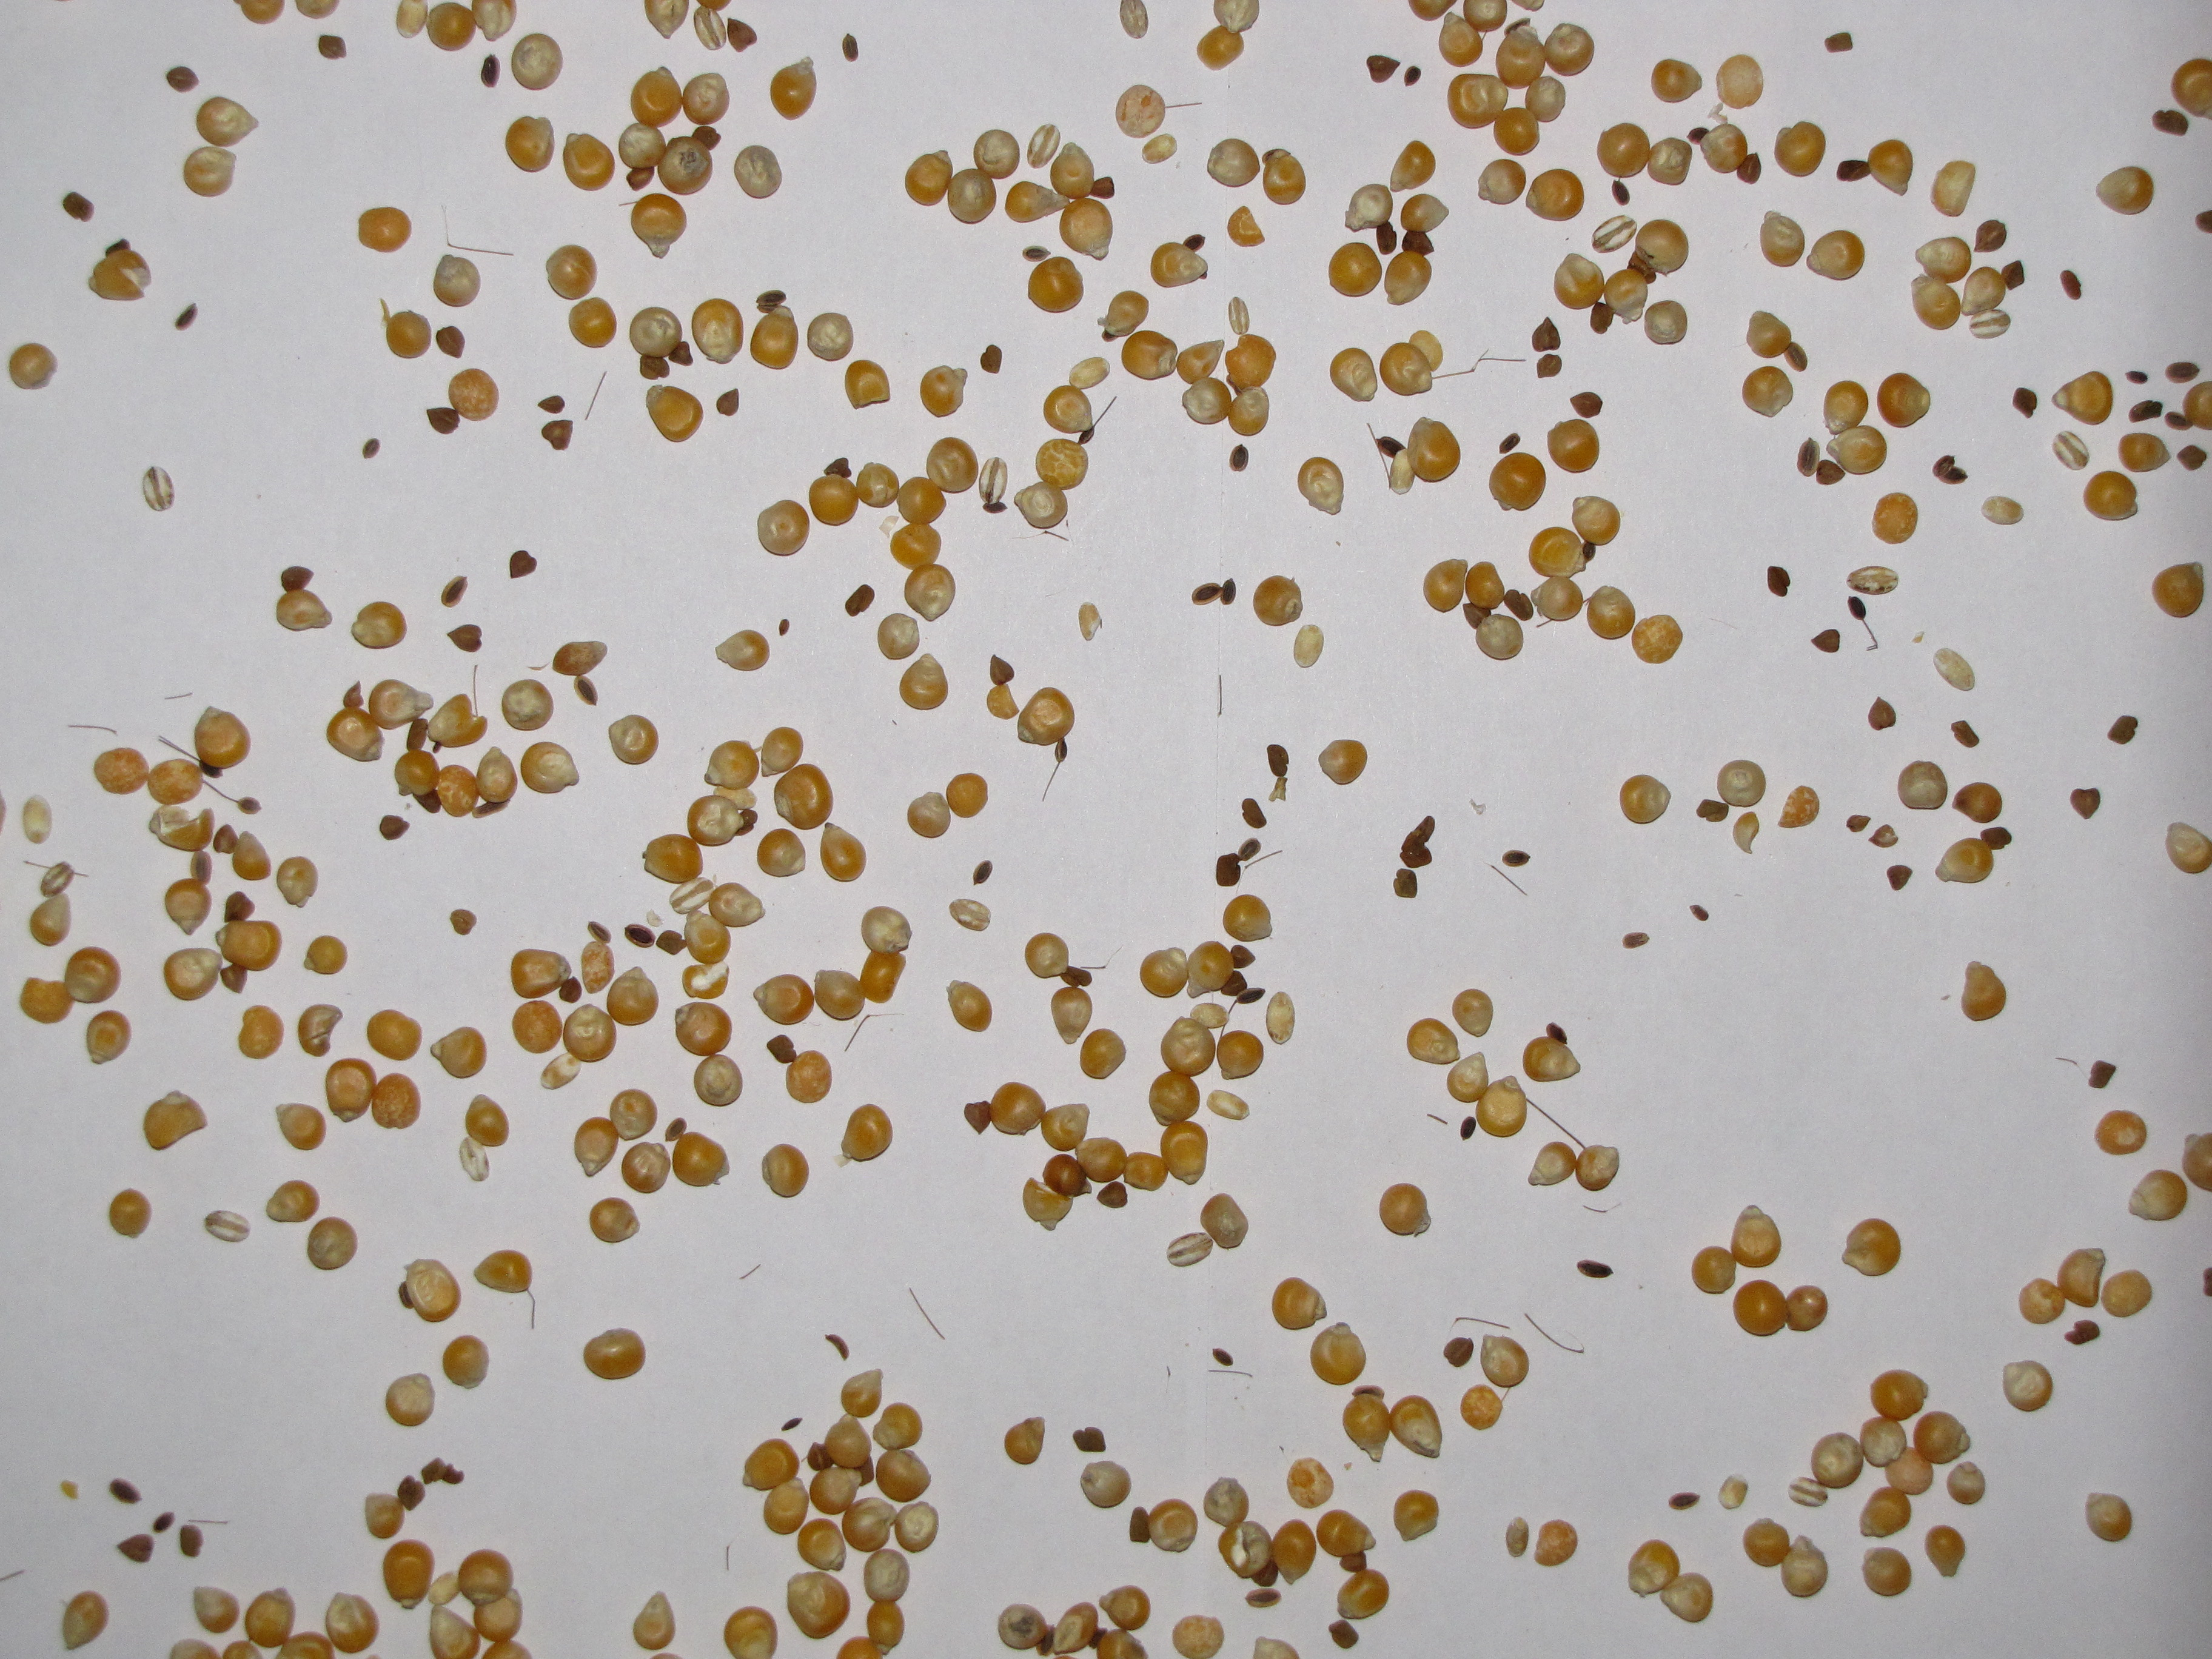mais: (1115, 84, 1202, 139), (1747, 310, 1808, 373), (212, 824, 272, 882), (195, 96, 260, 148), (1150, 234, 1209, 288), (380, 300, 432, 359), (770, 56, 817, 120), (430, 1026, 488, 1079), (1806, 230, 1865, 281), (1271, 1277, 1327, 1330), (545, 244, 597, 300), (1379, 1183, 1432, 1237), (2083, 471, 2139, 521), (1775, 122, 1825, 178), (1200, 1192, 1249, 1249), (899, 653, 948, 711), (350, 601, 408, 650), (1298, 457, 1345, 516), (1961, 960, 2006, 1021), (1742, 366, 1794, 418), (502, 680, 554, 732), (1207, 138, 1261, 188), (385, 1373, 435, 1427), (307, 1216, 357, 1270), (1329, 347, 1378, 403), (761, 1143, 810, 1199), (1480, 1333, 1529, 1389), (1716, 54, 1764, 110), (820, 823, 866, 882), (1097, 291, 1150, 342), (1630, 613, 1683, 664), (920, 364, 968, 418), (733, 145, 782, 199), (1261, 148, 1306, 206), (756, 828, 806, 878), (1620, 774, 1670, 824), (608, 714, 658, 765), (1862, 1547, 1912, 1598), (1252, 575, 1303, 626), (1897, 760, 1947, 810), (1080, 1460, 1132, 1509), (568, 296, 617, 349), (1407, 1018, 1461, 1065), (1759, 211, 1804, 267), (1223, 894, 1273, 943), (1871, 493, 1919, 544), (946, 979, 993, 1032), (434, 254, 481, 307), (1390, 139, 1435, 193), (239, 1006, 284, 1060), (1080, 1028, 1127, 1079), (275, 1103, 326, 1150), (298, 1004, 343, 1056), (589, 1197, 641, 1243), (1393, 1490, 1439, 1542), (359, 207, 411, 253), (714, 629, 770, 671), (265, 1180, 320, 1222), (986, 653, 1021, 720), (1318, 739, 1367, 786), (1477, 159, 1526, 206), (806, 312, 853, 361), (1717, 760, 1766, 807), (845, 359, 890, 410), (275, 856, 319, 908), (1651, 59, 1702, 103), (1952, 782, 2003, 824), (2118, 432, 2170, 472), (1451, 988, 1493, 1037), (1644, 300, 1688, 345), (878, 613, 920, 660), (1005, 1417, 1045, 1466), (1399, 816, 1435, 868), (946, 772, 988, 817), (909, 1288, 944, 1340), (303, 936, 348, 976), (979, 457, 1008, 514), (1266, 992, 1296, 1046), (1228, 206, 1264, 247), (1205, 1089, 1251, 1121), (949, 899, 991, 931), (1266, 744, 1289, 802), (1294, 624, 1324, 667), (1191, 579, 1237, 606), (421, 1457, 465, 1485), (1141, 132, 1177, 164), (1973, 220, 2006, 253), (726, 17, 758, 52), (1733, 812, 1759, 854), (1491, 866, 1527, 896), (1366, 54, 1400, 84), (1933, 455, 1968, 484), (1531, 317, 1561, 352), (585, 371, 606, 420), (2069, 788, 2101, 819), (542, 420, 573, 451), (845, 584, 874, 617), (1867, 697, 1897, 730), (435, 326, 465, 359), (448, 624, 482, 652), (2107, 714, 2139, 744), (63, 192, 94, 221), (1444, 1337, 1474, 1368), (1797, 437, 1820, 477), (1329, 1619, 1359, 1649), (441, 577, 469, 608), (165, 66, 199, 92), (1096, 1182, 1129, 1208), (1569, 392, 1602, 418), (1951, 720, 1980, 748), (2088, 1060, 2116, 1089), (2012, 387, 2038, 418), (1073, 1427, 1106, 1452), (2128, 401, 2163, 423), (509, 551, 536, 579), (2177, 444, 2207, 471), (1817, 458, 1846, 484), (1242, 798, 1266, 829), (1696, 800, 1730, 823), (1244, 850, 1282, 870), (449, 910, 477, 936), (2165, 362, 2200, 383), (1811, 629, 1841, 653), (380, 816, 409, 840), (1393, 868, 1418, 897), (1886, 864, 1912, 890), (319, 35, 347, 59), (1869, 824, 1898, 847), (1768, 566, 1791, 596), (1472, 357, 1526, 369), (826, 1333, 850, 1359), (1536, 354, 1562, 378), (481, 54, 500, 87), (716, 389, 738, 416), (2060, 270, 2081, 300), (981, 345, 1001, 375), (1669, 1492, 1700, 1511), (1825, 31, 1853, 52), (1501, 849, 1531, 868), (1456, 1317, 1510, 1328), (1230, 444, 1249, 472), (972, 861, 993, 885), (538, 396, 564, 415), (1500, 432, 1521, 455), (1846, 814, 1871, 833), (843, 33, 859, 61), (1022, 246, 1050, 261), (1460, 1117, 1477, 1140), (1212, 1349, 1233, 1366), (1404, 66, 1421, 87), (1688, 127, 1709, 143), (2125, 371, 2148, 385), (780, 1419, 803, 1431), (1426, 1114, 1447, 1124), (779, 619, 789, 636), (1217, 674, 1221, 716), (475, 796, 486, 807), (618, 202, 636, 207), (1599, 295, 1606, 305), (1167, 1366, 1170, 1377)
